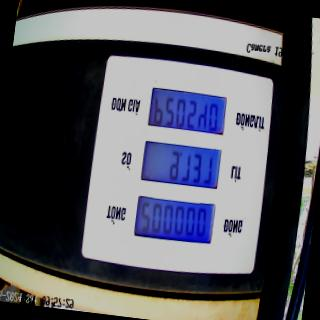screen: (130, 81, 232, 252)
